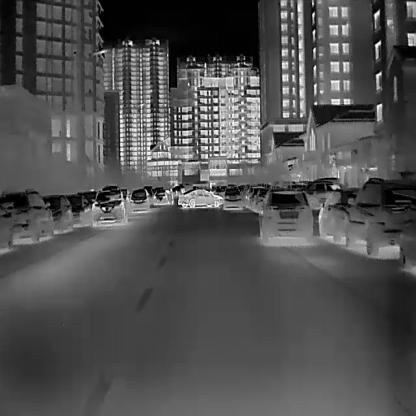car: (344, 175, 415, 256), (256, 188, 314, 246), (1, 187, 52, 240), (318, 187, 365, 242), (39, 194, 73, 235), (91, 188, 127, 226), (303, 180, 347, 208), (178, 187, 224, 209), (63, 194, 92, 226), (130, 186, 151, 211), (222, 185, 242, 211), (152, 188, 174, 204)
